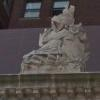Statue: (20, 7, 92, 78)
